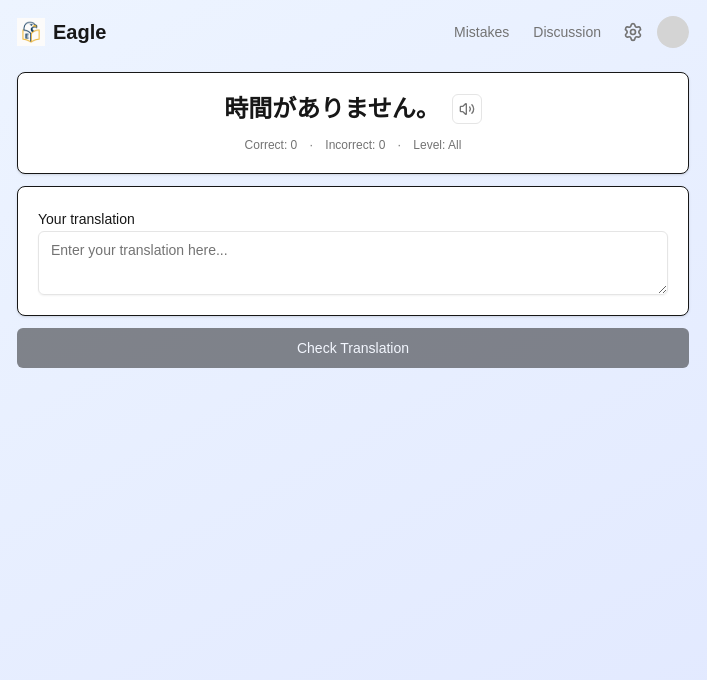
Scenario: review phase › shows an explain error with a working retry
This screenshot has width=707, height=680.
Expected: the text "時間がありません。" is shown, [224,93,440,125]
Type "I have no time." into the text box named "Your English translation" at (353, 263), box [38,231,668,295]
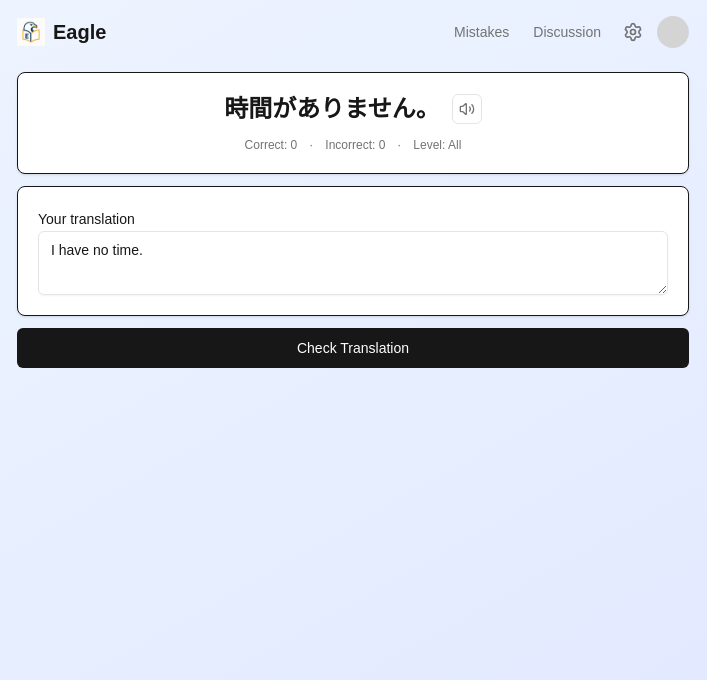
Click the button "Check Translation" at (353, 348), box [17,328,689,368]
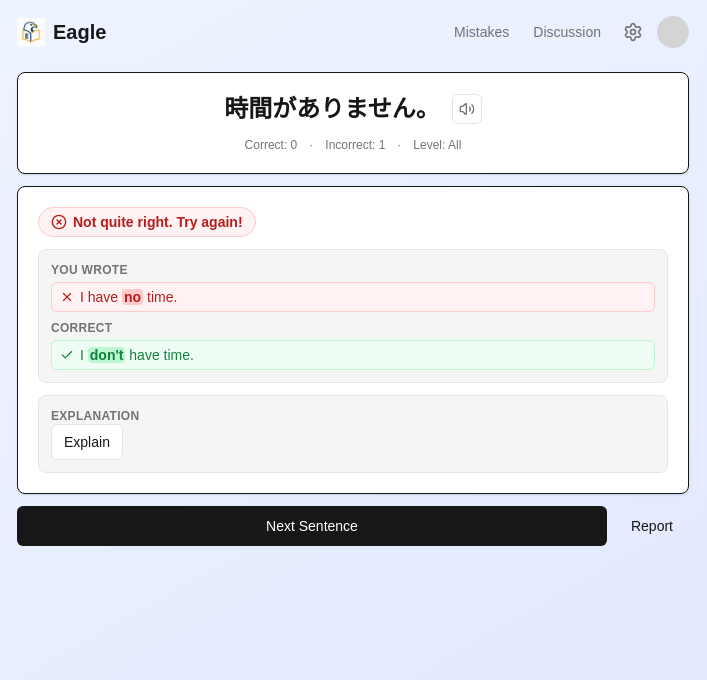
Now the text "Not quite right. Try again!" is shown, box [38,207,256,237]
Click the button "Explain" at (87, 442), box [51,424,123,460]
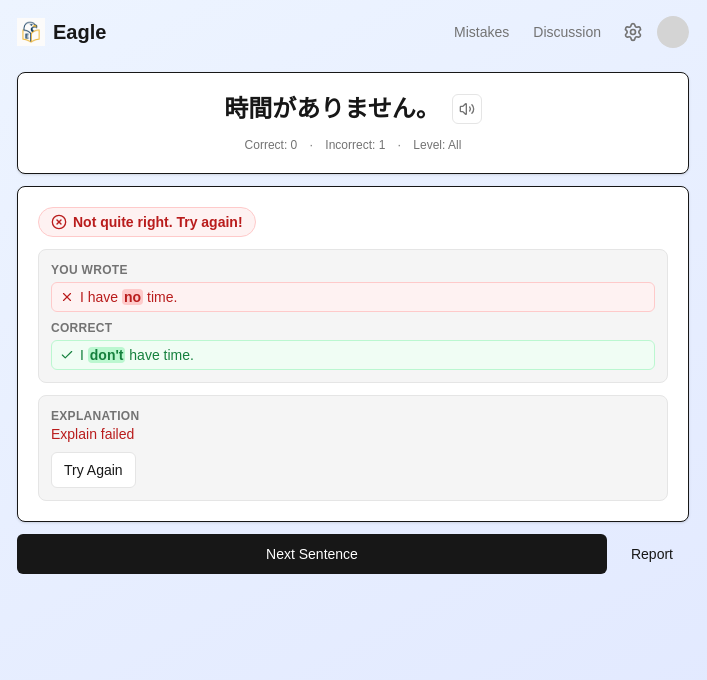
Now the text "Explain failed" is shown, box [51,426,134,442]
Click the button "Try Again" at (93, 470), box [51,452,136,488]
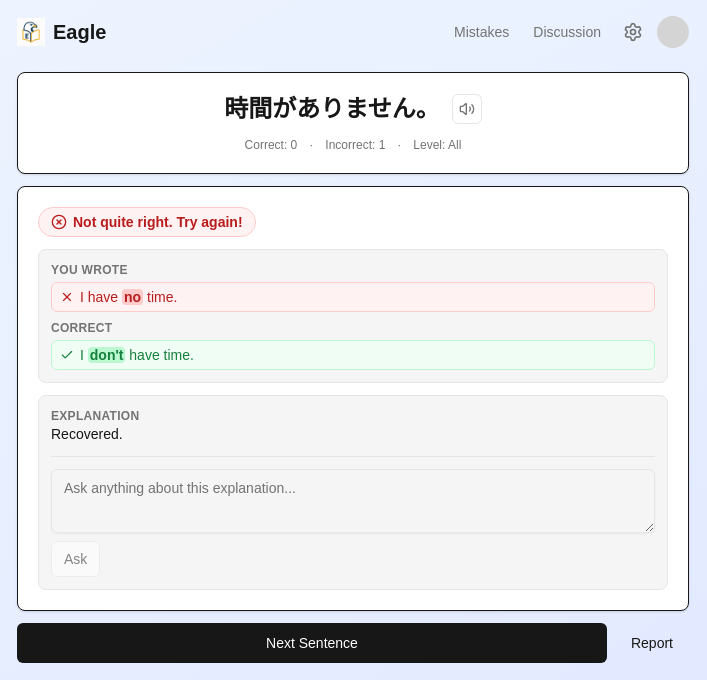
Now the text "Recovered." is shown, box [51,426,123,442]
